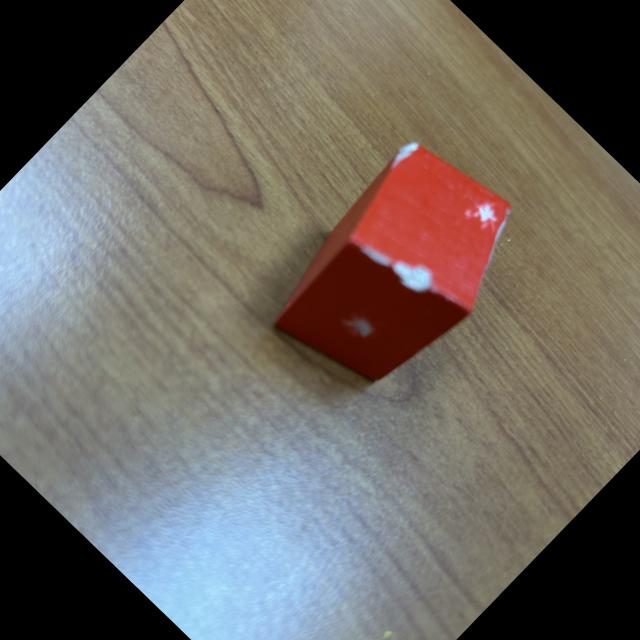broken: (250, 122, 546, 420)
